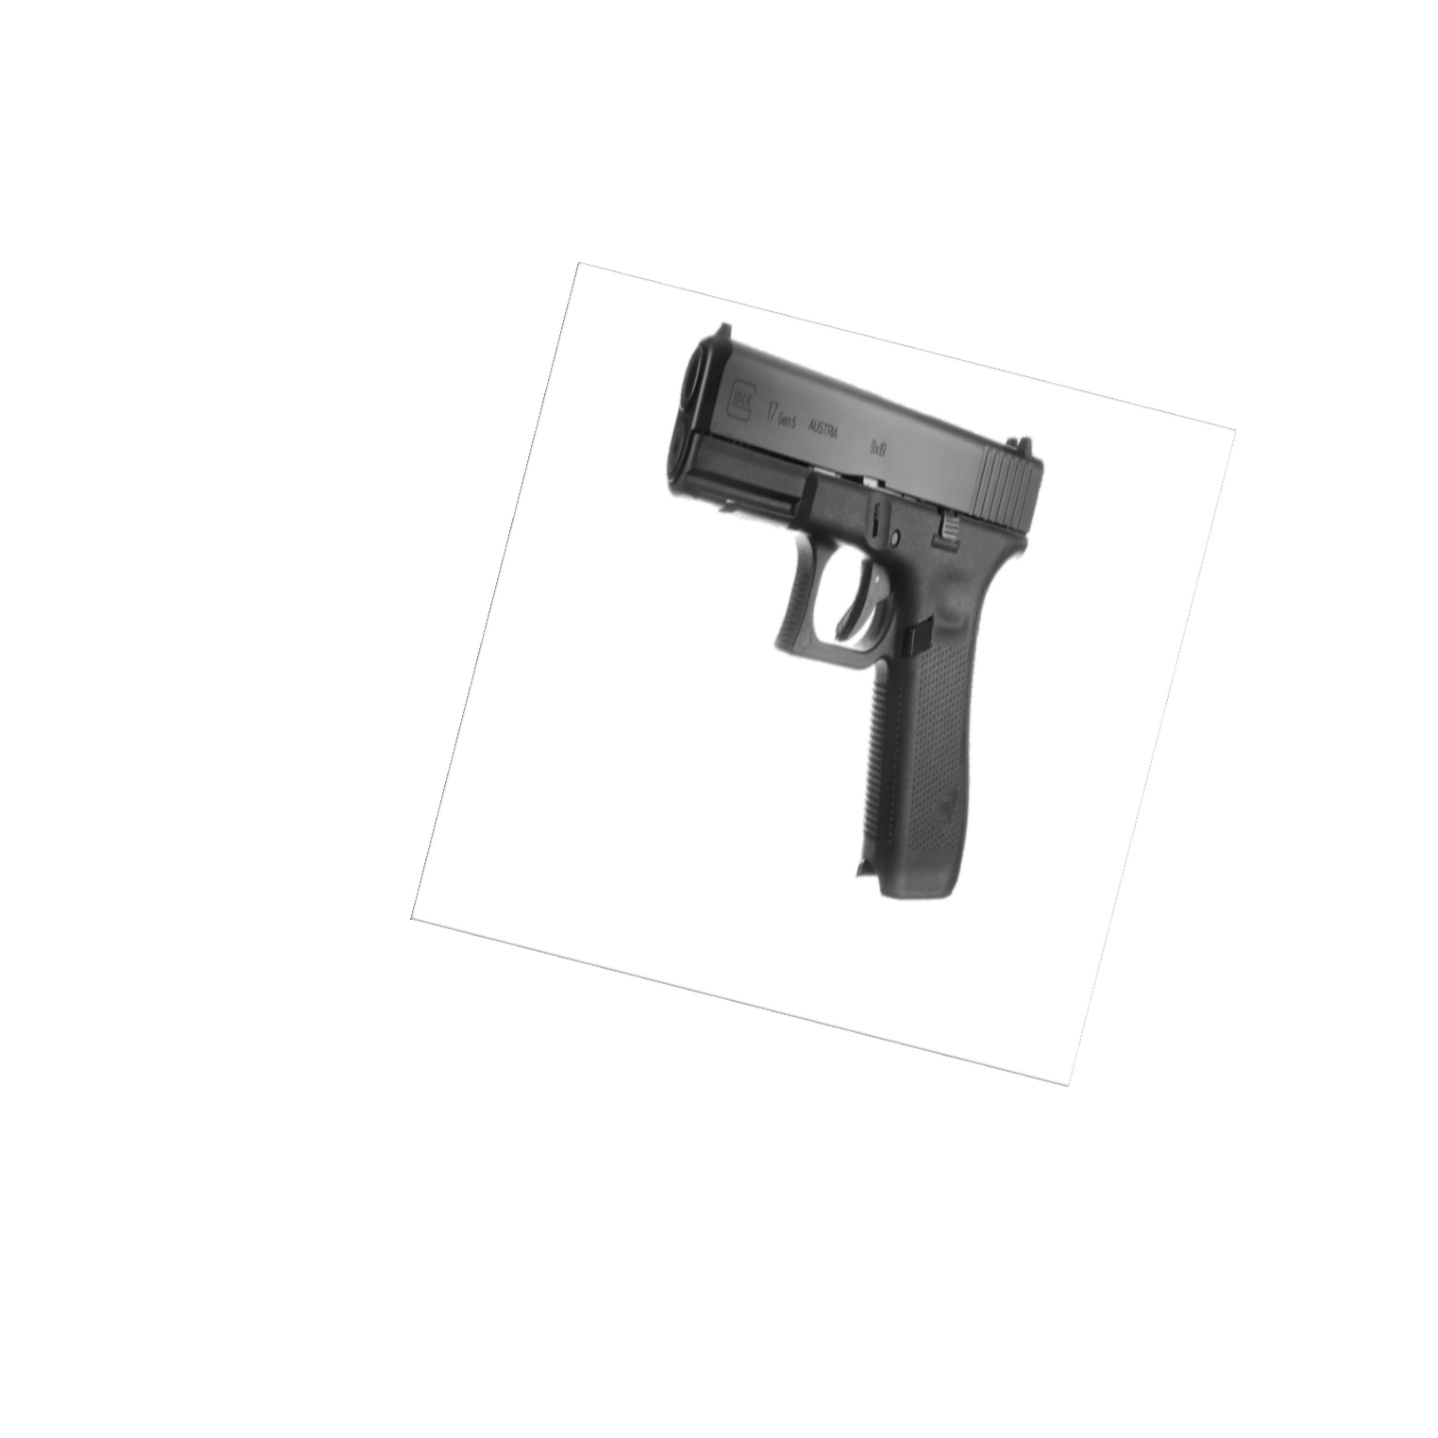gun: (653, 313, 1051, 909)
